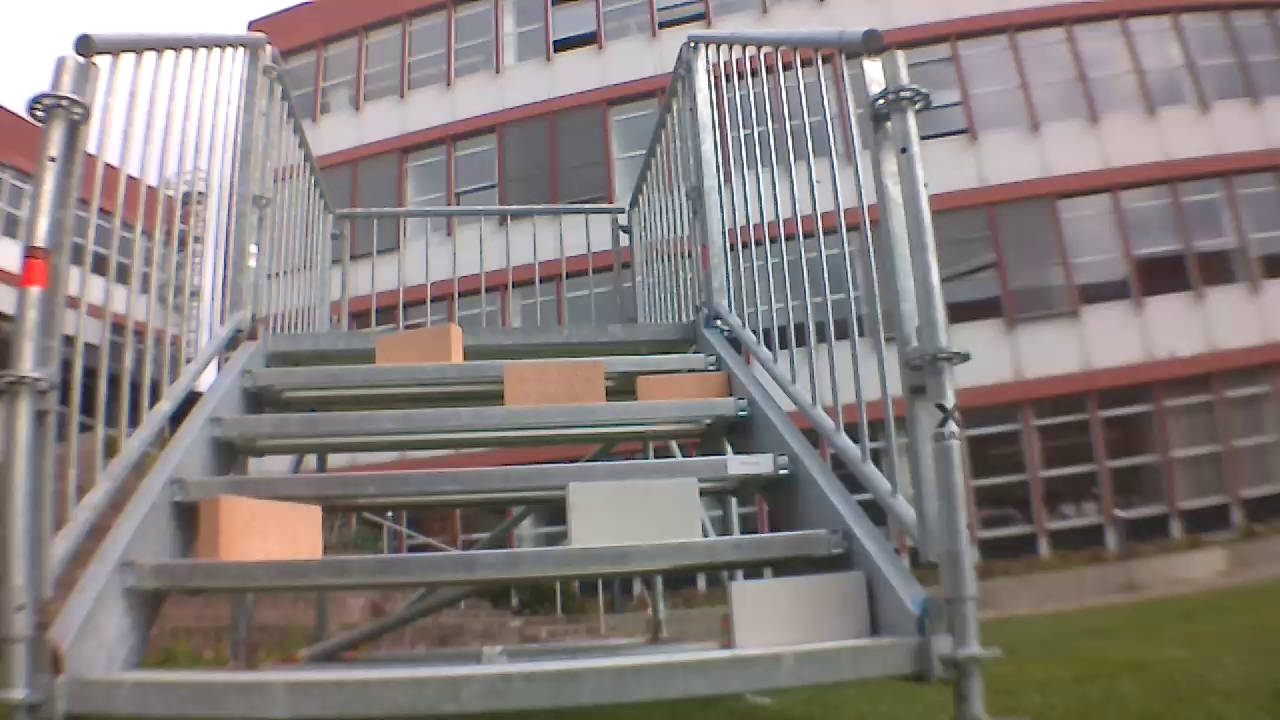brick: (728, 569, 870, 650), (564, 479, 701, 543), (196, 494, 321, 563), (505, 359, 605, 405), (375, 324, 463, 363), (639, 373, 726, 400)
edge: (65, 640, 921, 713), (125, 529, 845, 584), (171, 453, 792, 499), (210, 398, 746, 435), (240, 354, 716, 382), (266, 321, 693, 351)
stairs: (3, 29, 1008, 717)
steps: (57, 316, 935, 719)
